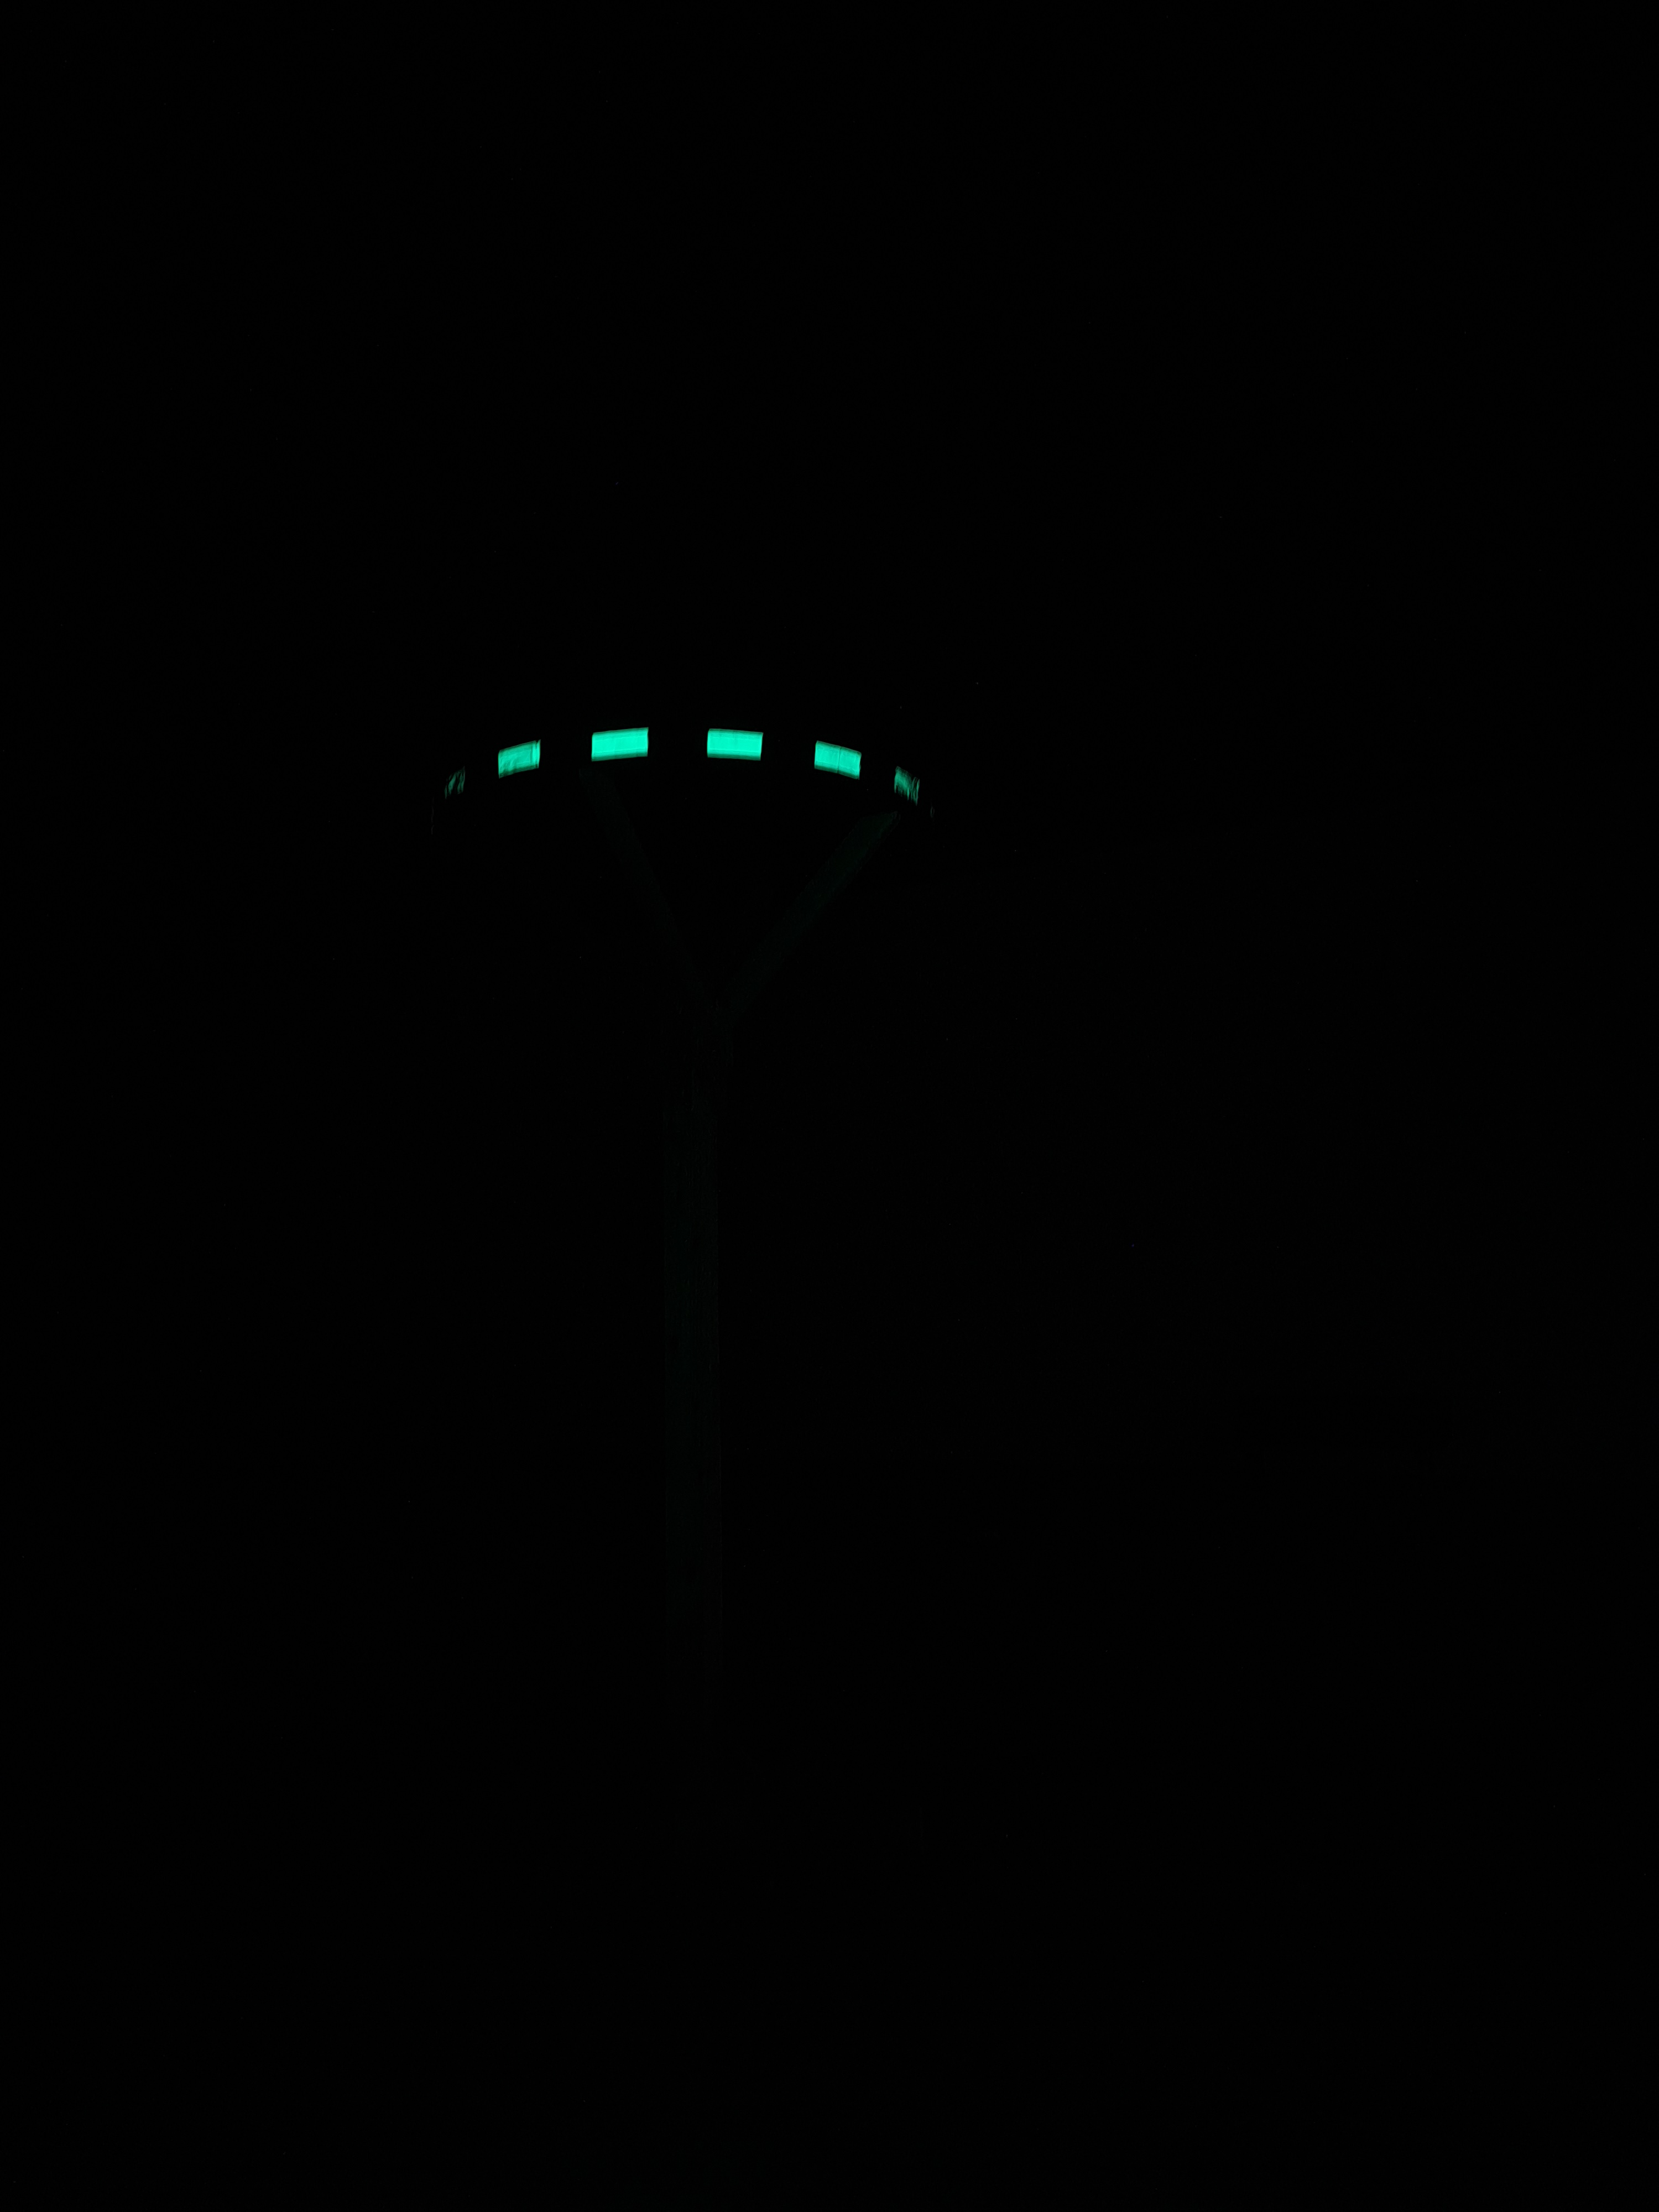hoop: (437, 719, 924, 812)
